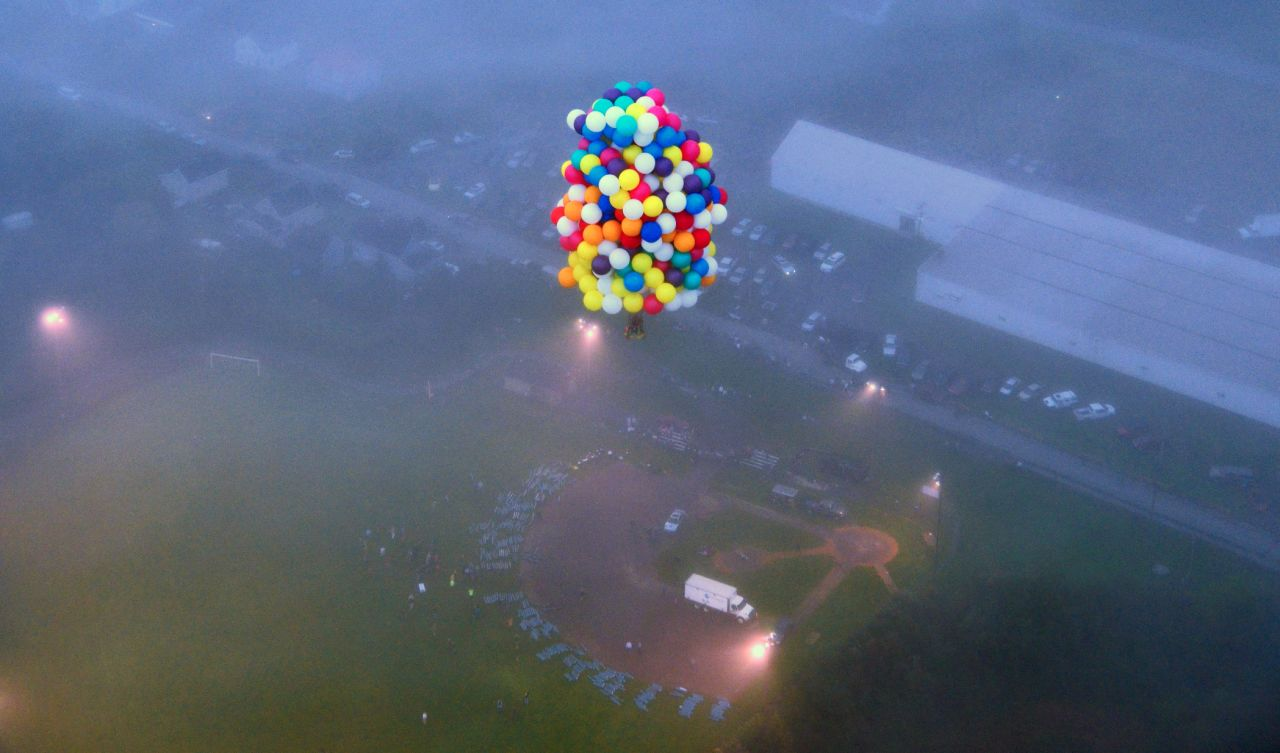Balloon: (635, 113, 659, 135), (619, 168, 640, 191), (643, 195, 664, 218), (600, 293, 623, 314), (634, 152, 655, 174), (665, 191, 687, 212), (641, 220, 662, 242), (582, 288, 601, 312), (599, 174, 620, 195), (674, 231, 695, 252), (609, 247, 630, 268), (644, 267, 665, 288), (623, 198, 643, 220), (616, 115, 636, 136), (586, 111, 606, 132), (632, 252, 652, 273), (655, 282, 675, 303), (581, 203, 602, 223), (580, 153, 600, 174), (558, 266, 577, 288), (681, 140, 699, 163), (685, 194, 705, 214), (583, 224, 603, 244), (657, 126, 676, 147), (602, 219, 620, 241), (683, 175, 703, 194), (592, 255, 611, 274), (655, 156, 673, 176), (656, 212, 674, 232), (683, 270, 701, 290), (710, 204, 727, 225), (567, 184, 586, 201), (564, 201, 581, 219), (578, 242, 596, 259), (692, 258, 708, 276)
